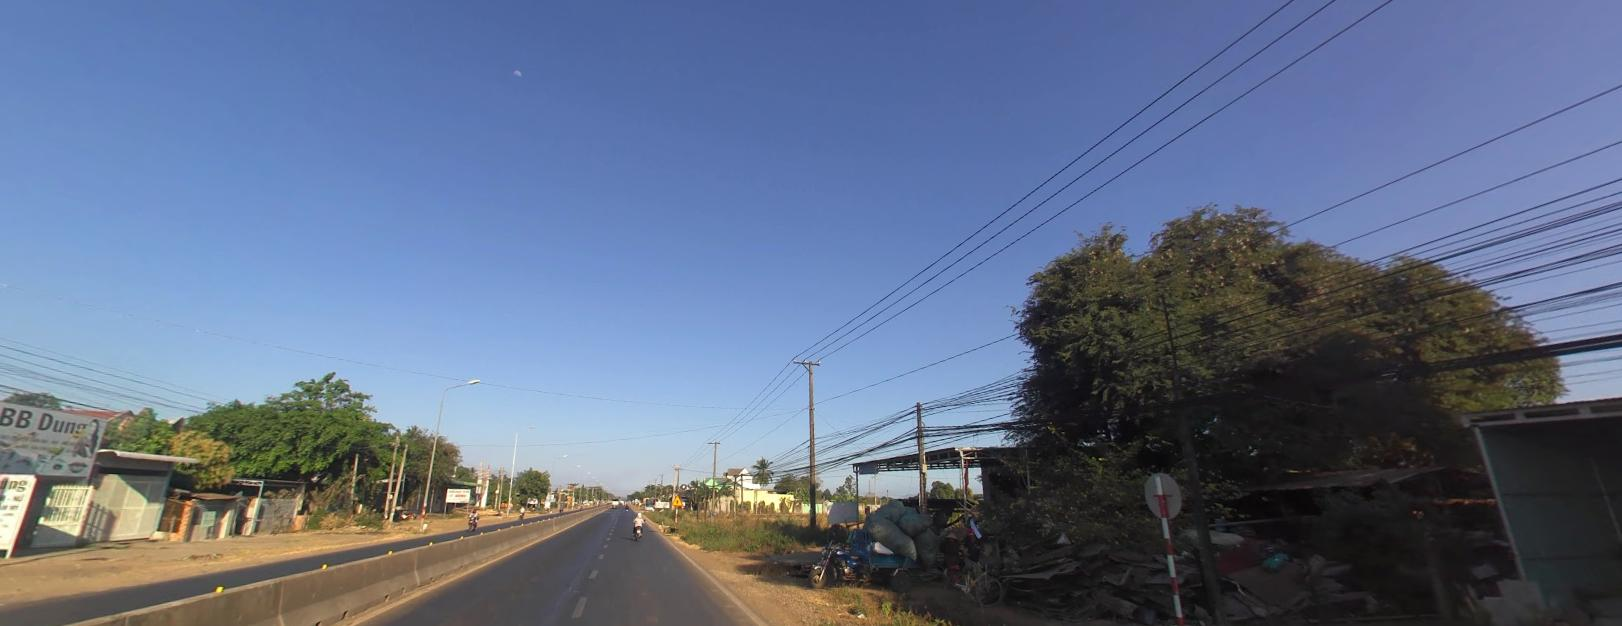Nguy hiem: (671, 493, 682, 506)
